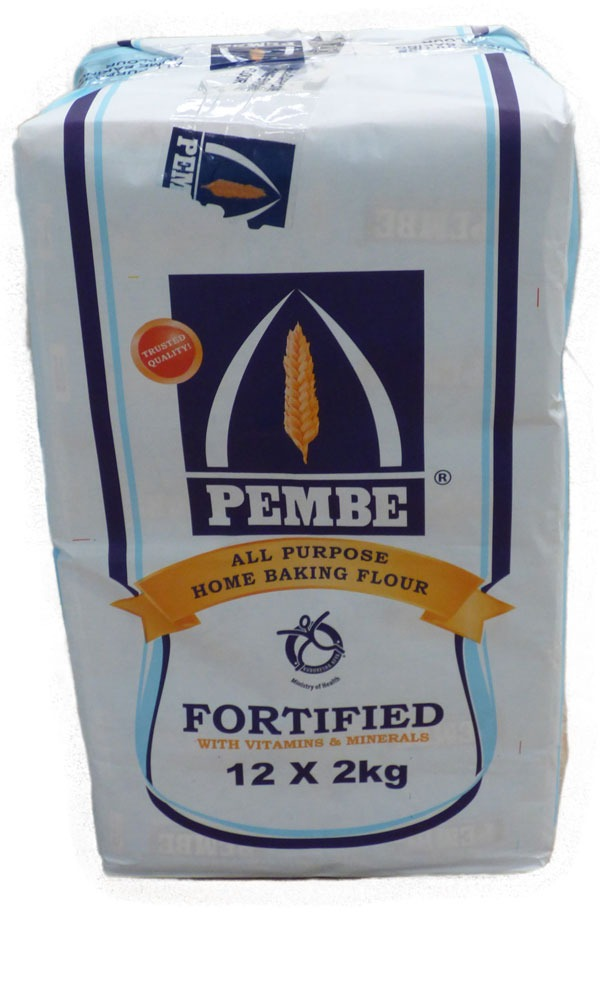wheat_flour_blue_label: (20, 29, 570, 867)
